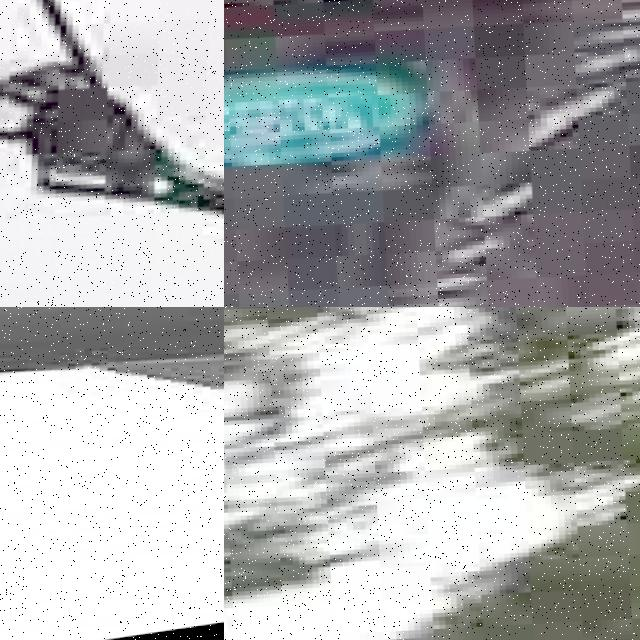0: (0, 0, 224, 307)
drone: (0, 307, 224, 640)
